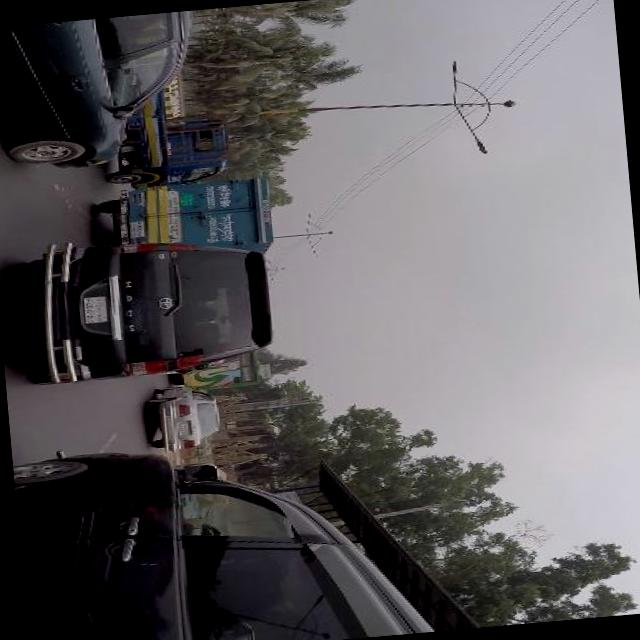bus: (168, 348, 273, 399)
car: (0, 11, 204, 176), (146, 378, 240, 456)
truck: (12, 418, 438, 640), (16, 228, 285, 390), (88, 178, 288, 270), (98, 84, 250, 193)
